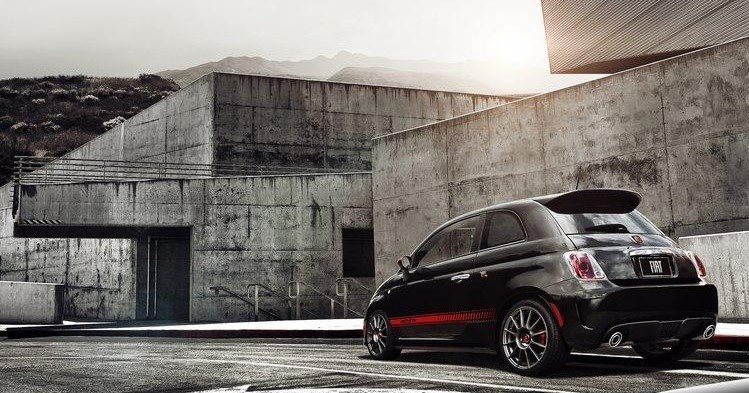vehicle_away: (363, 165, 720, 373)
